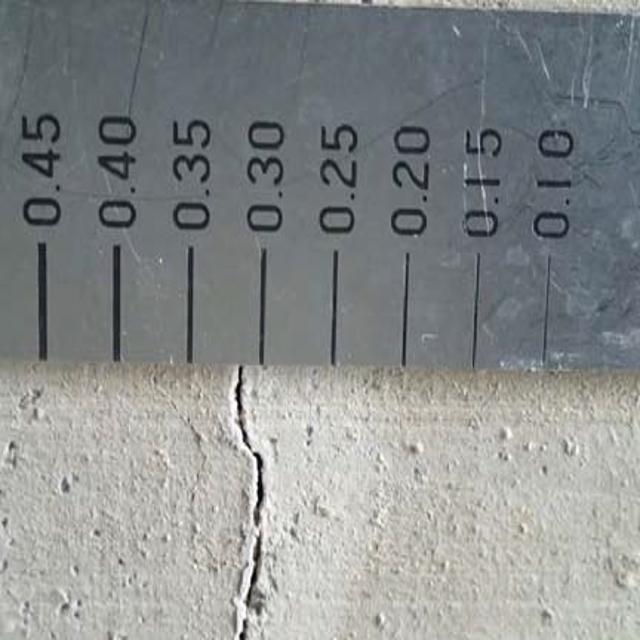crack: (218, 367, 272, 639)
